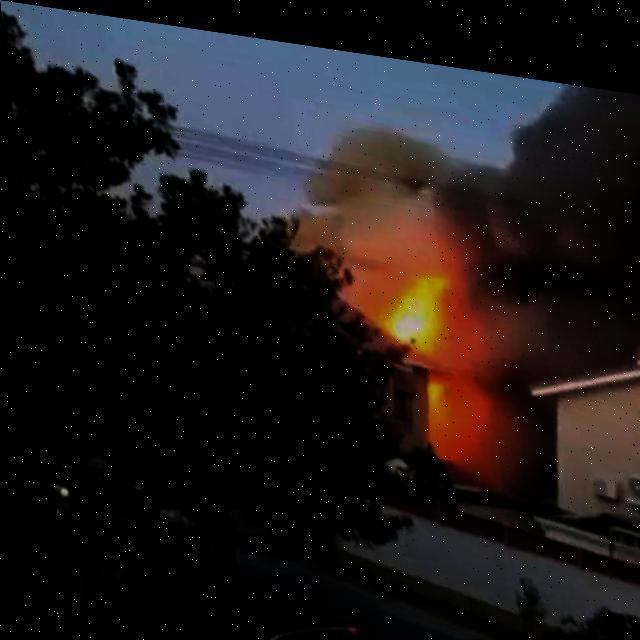Fire: (374, 258, 475, 442)
